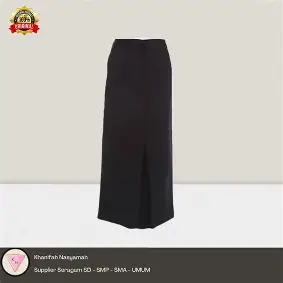rok_benar: (97, 38, 182, 224)
